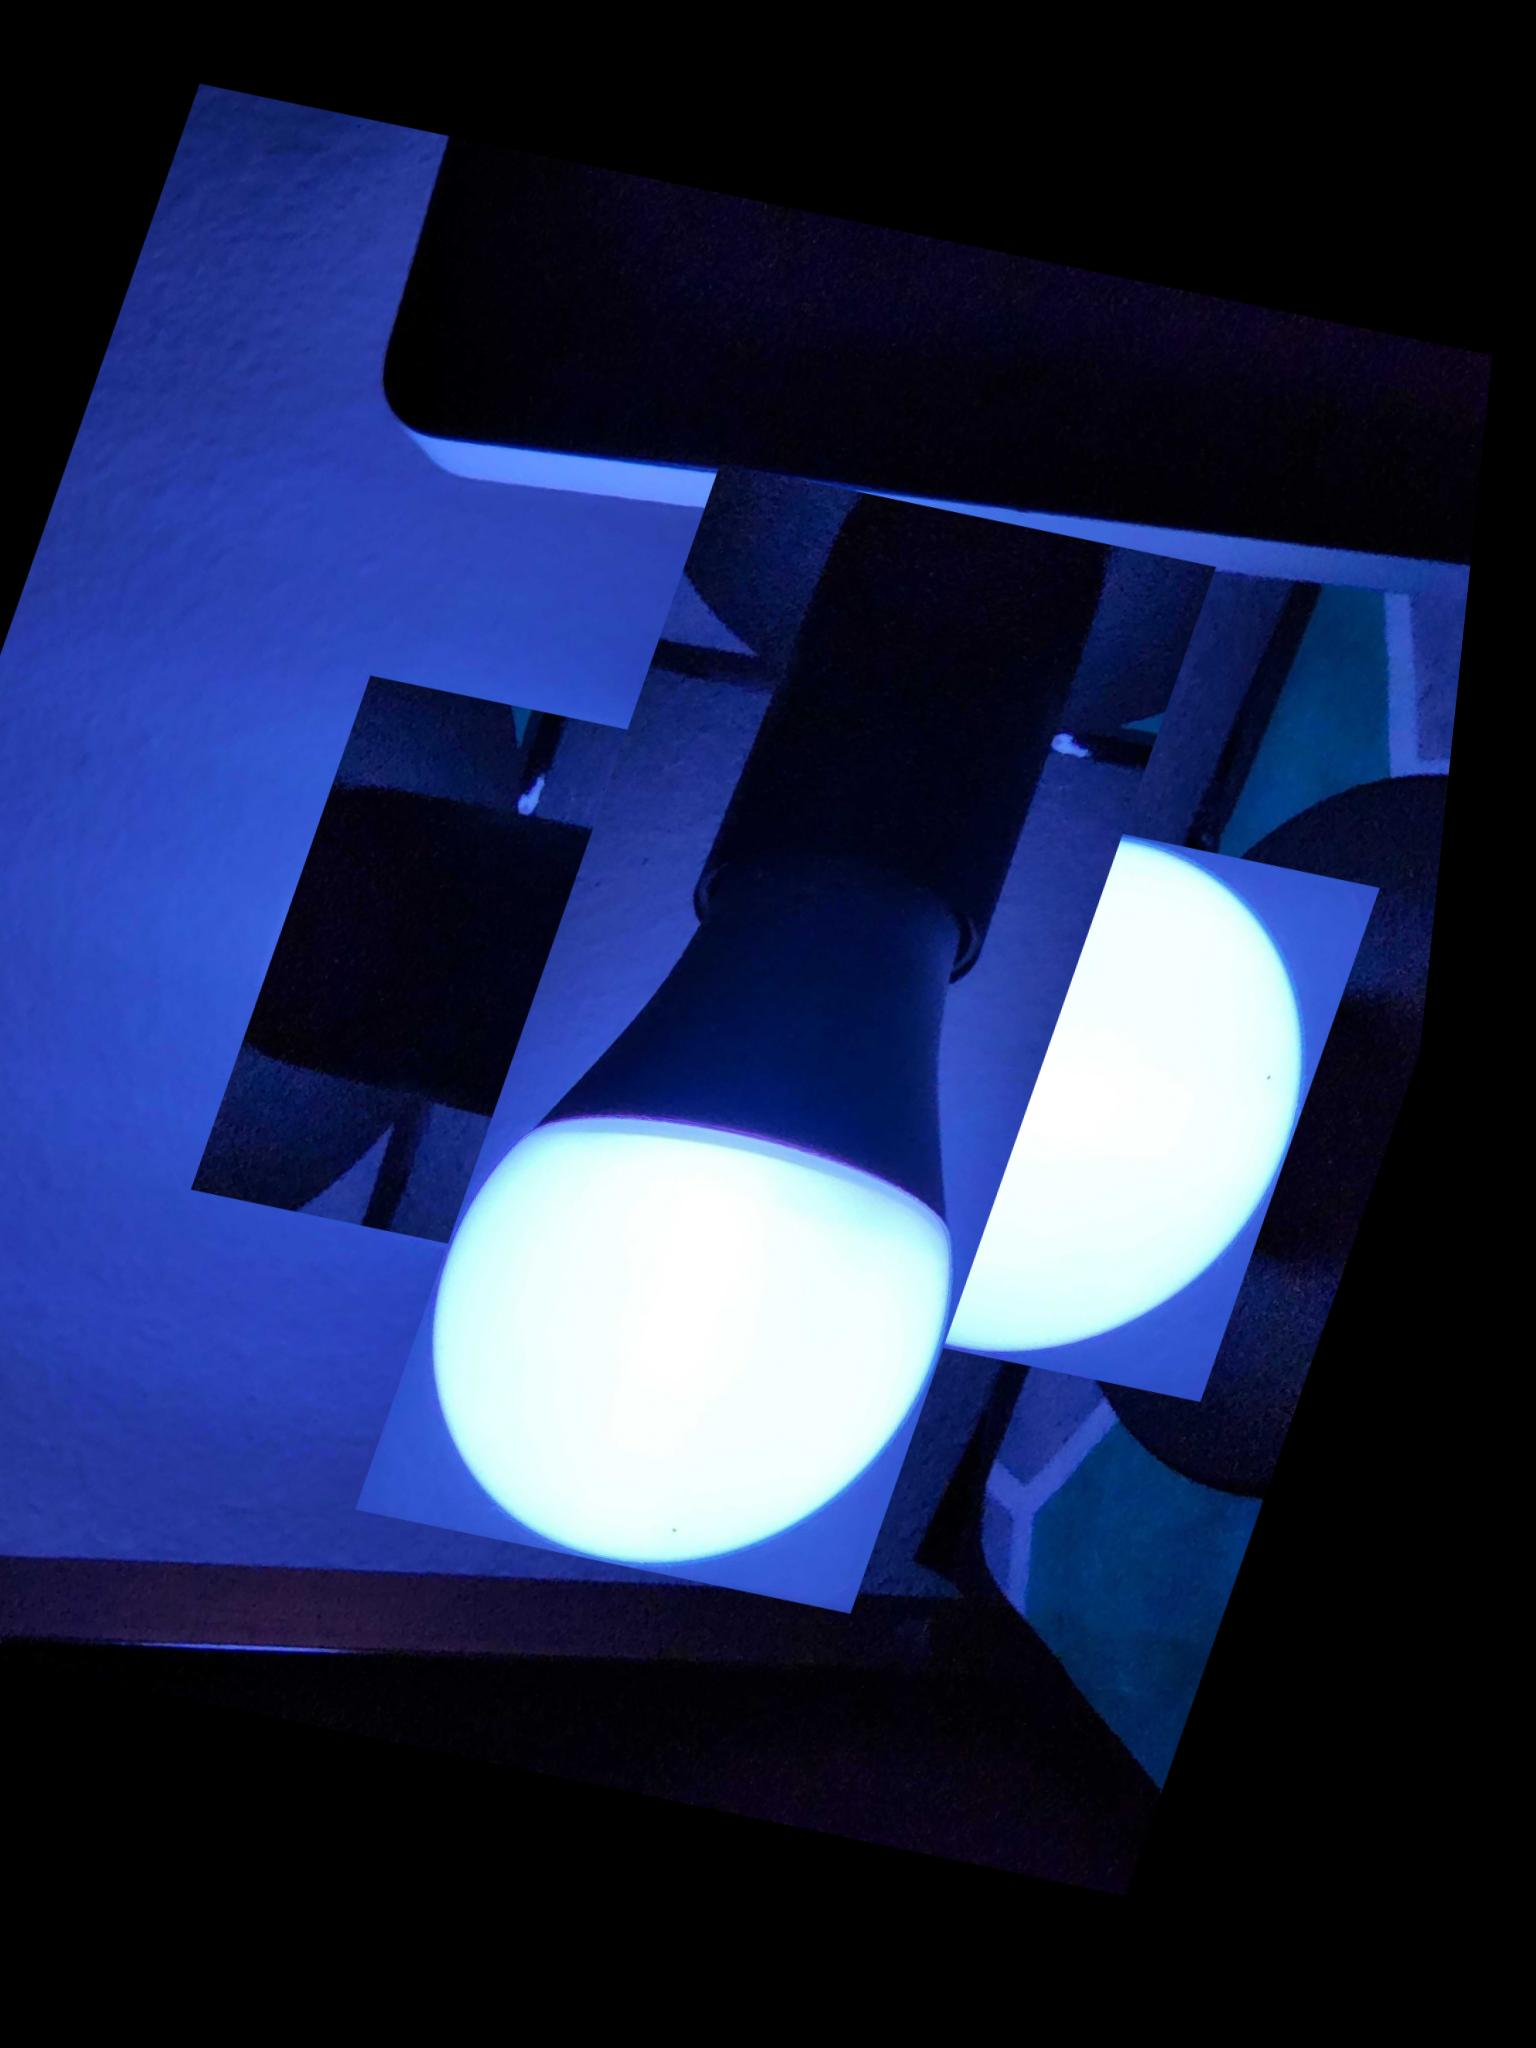TubeLight: (286, 548, 1329, 1546)
